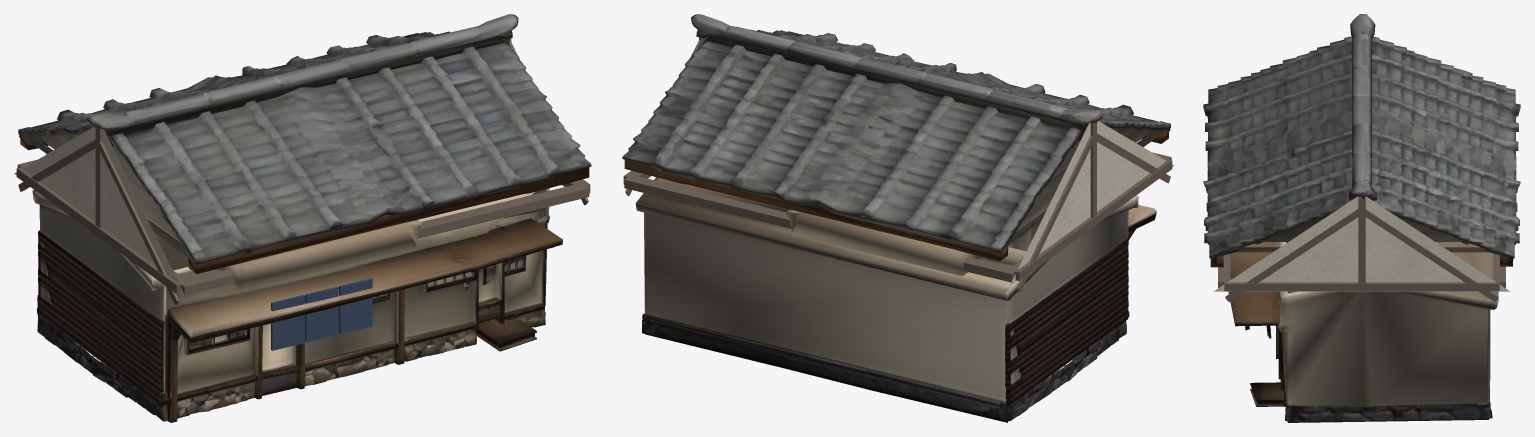
Rendered from house_shop.glb.
3 views of the same model, side by side, from view 1: azimuth 30°, elevation 25°; view 2: azimuth 150°, elevation 25°; view 3: azimuth 270°, elevation 25° (orthographic). The views are drawn at different scales.
Bounding box in the file's own units: 8.7 × 5.39 × 6.5.
Materials: 5 (4 with a texture image).
